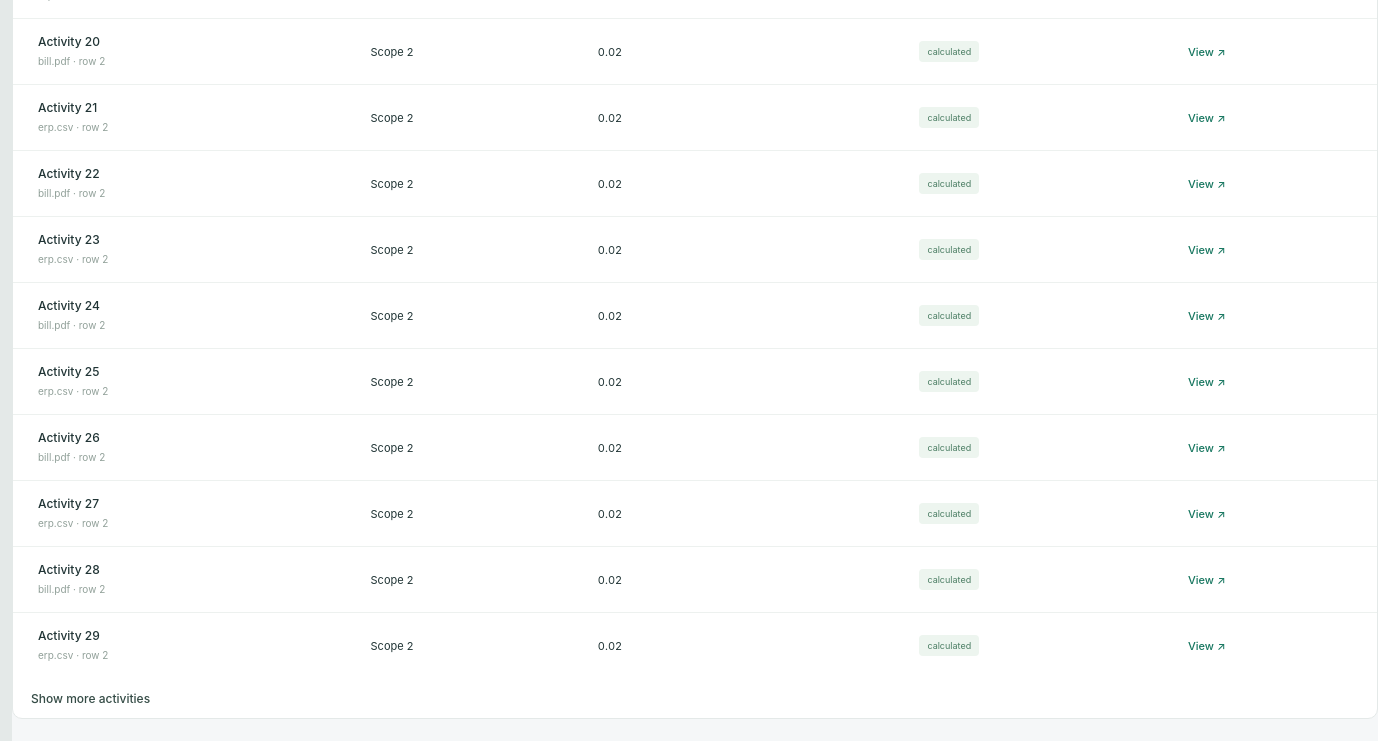
EntryTable › pages long ledgers thirty rows at a time
(page scrolled)
Step 1. Click the button "Show more activities" → [91, 698], box [13,678,168,718]
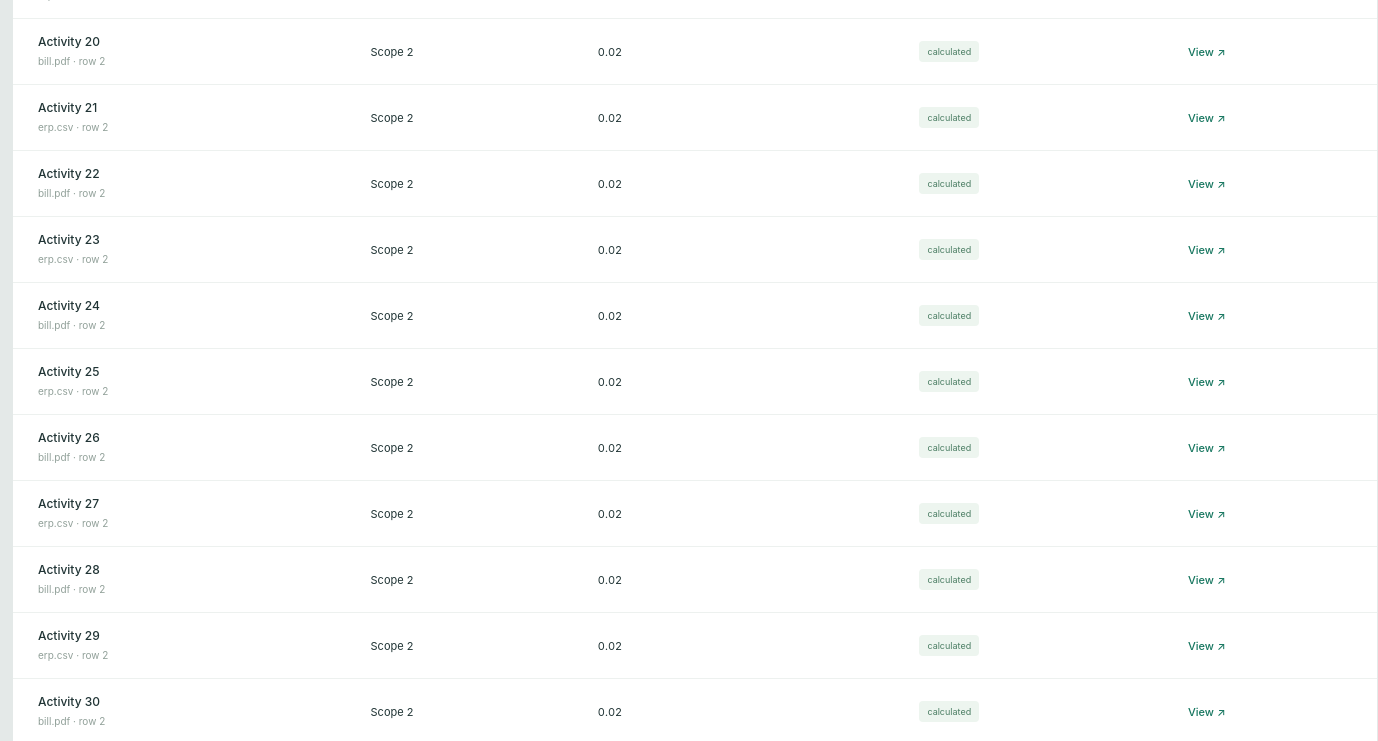
Expected: the button "Show more activities" is gone
